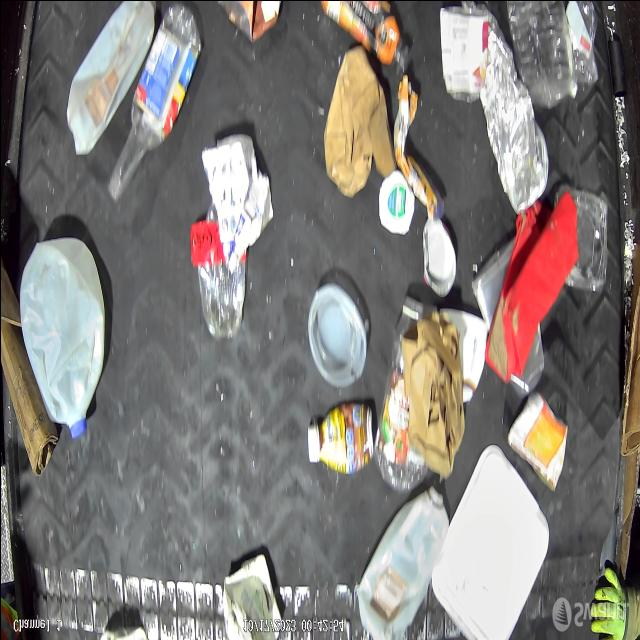can: (507, 388, 568, 488), (421, 212, 456, 298)
milk_jug: (18, 231, 106, 441), (354, 484, 449, 640), (66, 1, 154, 157)
plastic_bottle: (472, 0, 548, 214), (377, 294, 427, 488), (506, 1, 576, 108), (196, 200, 246, 338)
